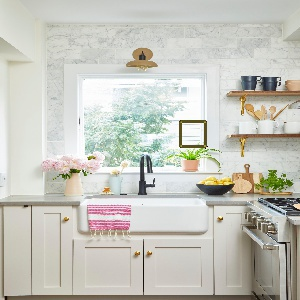square: (177, 118, 208, 149)
